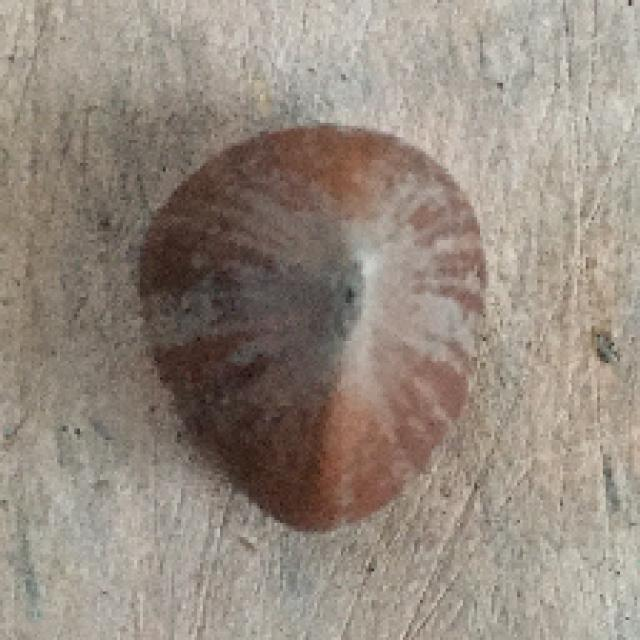qualityHazelnut: (137, 116, 491, 534)
